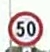limite 50: (7, 10, 42, 46)
